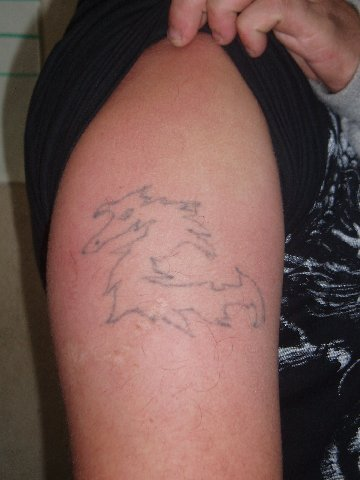tatu7_zmeya: (71, 154, 271, 347)
